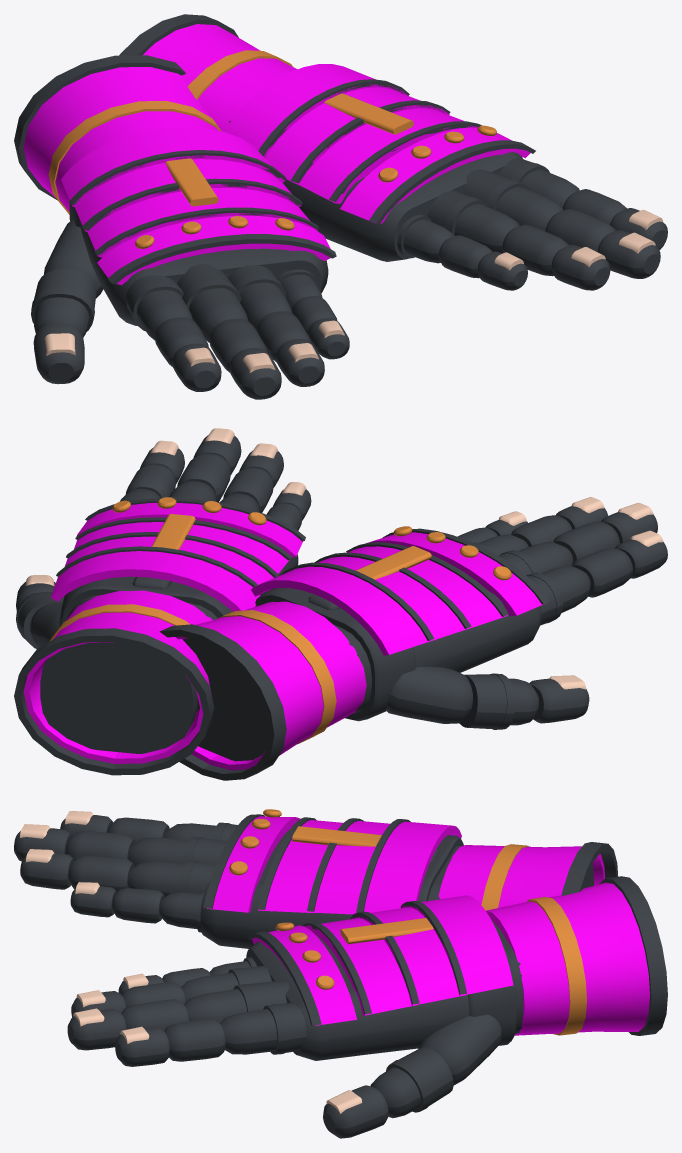
File: objet_armure3_gants.glb
The picture shows the model from 3 angles, top to bottom: view 1: azimuth 30°, elevation 25°; view 2: azimuth 150°, elevation 25°; view 3: azimuth 270°, elevation 25°; orthographic projection. The views are drawn at different scales.
Parts seen in each view (by area): view 1: main__gantelet_teinte.022, main__gantelet_teinte.021, manchette__gantelet_teinte.022, main__gantelet_teinte_sombre.010, main.021, manchette__gantelet_teinte.021, main__gantelet_teinte_sombre.009, main.022, pouce_2.022, annulaire_1.021, majeur_1.021, majeur_1.022 (+29 smaller); view 2: main__gantelet_teinte.022, manchette.021, main__gantelet_teinte.021, manchette__gantelet_teinte.022, main.022, manchette__gantelet_teinte.021, manchette__gantelet_teinte_sombre.005, manchette.022, manchette__gantelet_teinte_sombre.006, main__gantelet_teinte_sombre.009, pouce_1.022, main__gantelet_teinte_sombre.010 (+29 smaller); view 3: main__gantelet_teinte.021, manchette__gantelet_teinte.021, main__gantelet_teinte.022, main.021, manchette__gantelet_teinte.022, main.022, main__gantelet_teinte_sombre.009, pouce_2.021, index_1.021, main__gantelet_teinte_sombre.010, pouce_1.021, manchette__gantelet_teinte_sombre.005 (+28 smaller).
Boxes of the visible parts, <box> form: main__gantelet_teinte.022: <box>61,126,330,285</box>; main__gantelet_teinte.021: <box>224,64,530,223</box>; manchette__gantelet_teinte.022: <box>23,67,217,211</box>; main__gantelet_teinte_sombre.010: <box>69,150,336,284</box>; main.021: <box>229,121,522,261</box>; manchette__gantelet_teinte.021: <box>143,24,297,131</box>; main__gantelet_teinte_sombre.009: <box>258,79,535,223</box>; main.022: <box>69,203,328,325</box>; pouce_2.022: <box>31,269,96,337</box>; annulaire_1.021: <box>427,190,519,253</box>; majeur_1.021: <box>462,169,563,231</box>; majeur_1.022: <box>177,264,248,342</box>; main__gantelet_teinte.022: <box>251,532,545,655</box>; manchette.021: <box>40,642,197,753</box>; main__gantelet_teinte.021: <box>51,502,302,611</box>; manchette__gantelet_teinte.022: <box>176,601,366,770</box>; main.022: <box>255,588,541,721</box>; manchette__gantelet_teinte.021: <box>23,590,212,763</box>; manchette__gantelet_teinte_sombre.005: <box>14,628,214,775</box>; manchette.022: <box>182,638,268,761</box>; manchette__gantelet_teinte_sombre.006: <box>159,624,286,780</box>; main__gantelet_teinte_sombre.009: <box>56,498,305,595</box>; pouce_1.022: <box>386,666,472,723</box>; main__gantelet_teinte_sombre.010: <box>279,528,549,640</box>; main__gantelet_teinte.021: <box>252,895,513,1025</box>; manchette__gantelet_teinte.021: <box>486,882,649,1035</box>; main__gantelet_teinte.022: <box>207,816,461,914</box>; main.021: <box>246,930,523,1060</box>; manchette__gantelet_teinte.022: <box>438,845,604,907</box>; main.022: <box>200,825,463,948</box>; main__gantelet_teinte_sombre.009: <box>248,901,466,1025</box>; pouce_2.021: <box>370,1047,453,1118</box>; index_1.021: <box>220,1002,306,1054</box>; main__gantelet_teinte_sombre.010: <box>203,814,410,912</box>; pouce_1.021: <box>418,1014,501,1085</box>; manchette__gantelet_teinte_sombre.005: <box>599,876,667,1035</box>.
Size of the model in its own units: 0.3286 by 0.0844 by 0.3517.
